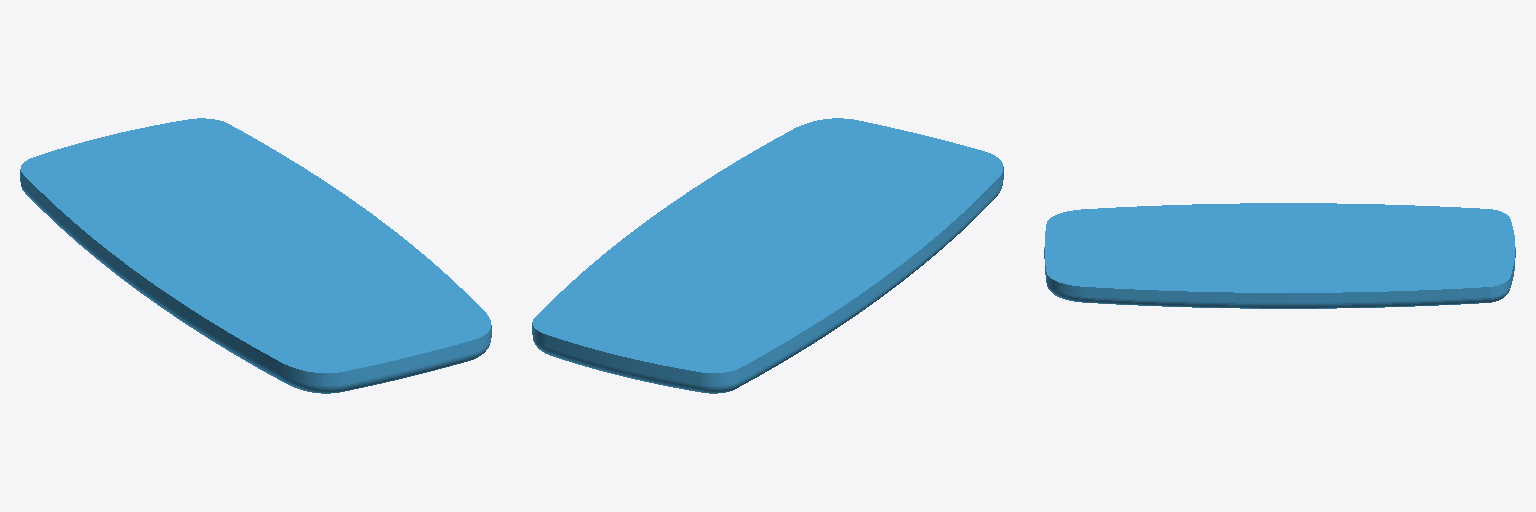
robot.urdf — partnet_4185c4eb651bd7e03c752b66cc923fdb:
<?xml version="1.0" ?>
<robot name="partnet_4185c4eb651bd7e03c752b66cc923fdb">
	<!-- <link name="base"/> -->
	<link name="link_0">
		<visual name="body-6">
			<origin xyz="0 0 0"/>
			<geometry>
				<mesh filename="textured_objs/new-3.obj" scale="0.05 0.05 0.05"/>
			</geometry>
		</visual>
		<visual name="body-6">
			<origin xyz="0 0 0"/>
			<geometry>
				<mesh filename="textured_objs/new-1.obj" scale="0.05 0.05 0.05"/>
			</geometry>
		</visual>
		<visual name="body-6">
			<origin xyz="0 0 0"/>
			<geometry>
				<mesh filename="textured_objs/new-2.obj" scale="0.05 0.05 0.05"/>
			</geometry>
		</visual>
		<collision>
			<origin xyz="0 0 0"/>
			<geometry>
				<mesh filename="textured_objs/new-3.obj" scale="0.05 0.05 0.05"/>
			</geometry>
		</collision>
		<collision>
			<origin xyz="0 0 0"/>
			<geometry>
				<mesh filename="textured_objs/new-1.obj" scale="0.05 0.05 0.05"/>
			</geometry>
		</collision>
		<collision>
			<origin xyz="0 0 0"/>
			<geometry>
				<mesh filename="textured_objs/new-2.obj" scale="0.05 0.05 0.05"/>
			</geometry>
		</collision>
	
	</link>

	<!-- <joint name="joint_0" type="fixed">
		<origin rpy="1.570796326794897 0 -1.570796326794897" xyz="0 0 0"/>
		<child link="link_0"/>
		<parent link="base"/>
	</joint> -->
	<link name="link_1">
		<visual name="lid-7">
			<origin xyz="0.011177317945073057 0 0.007005682054926923"/>
			<geometry>
				<mesh filename="textured_objs/original-2.obj" scale="0.05 0.05 0.05"/>
			</geometry>
		</visual>
		<collision>
			<origin xyz="0.011177317945073057 0 0.007005682054926923"/>
			<geometry>
				<mesh filename="textured_objs/original-2.obj" scale="0.05 0.05 0.05"/>
			</geometry>
		</collision>
	</link>
	
	<!-- <joint name="joint_1" type="continuous"> -->
	<joint name="joint_1" type="fixed">
		<origin xyz="0.0 0 0.0"/>
		<axis xyz="0 -1 0"/>
		<child link="link_1"/>
		<parent link="link_1_helper"/>
	</joint>
	<link name="link_1_helper"/>
	<!-- <joint name="joint_2" type="prismatic"> -->
	<joint name="joint_2" type="fixed">
		<origin xyz="-0.011177317945073057 0 -0.007005682054926923"/>
		<axis xyz="0 1 0"/>
		<child link="link_1_helper"/>
		<parent link="link_0"/>
		<limit lower="-0.016000000000000014" upper="0.05600000000000005"/>
	</joint>  
	
</robot>

--- Facts derived from the render (not from the file) ---
3 views of the same robot in one strip: view 1: azimuth 30°, elevation 25°; view 2: azimuth 150°, elevation 25°; view 3: azimuth 270°, elevation 25° (orthographic).
Model partnet_4185c4eb651bd7e03c752b66cc923fdb with 3 links and 2 joints (2 fixed), rooted at link_0, posed every joint at zero.
Visible links, largest first — view 1: link_1; view 2: link_1; view 3: link_1.
Link boxes in pixels (box(x1,y1,x2,y2)): link_1: box(20, 118, 491, 393); link_1: box(532, 118, 1003, 393); link_1: box(1044, 203, 1515, 308).
Size in the robot's own frame: 0.044 by 0.0975 by 0.0044 metres.
Meshes: 4 distinct files referenced, 1 mesh visuals loaded (1 OBJ); not drawn: 3 (reference not matched to a file when rendering).